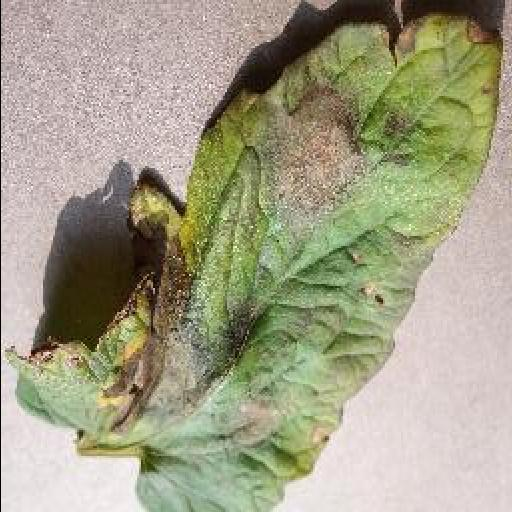disease_tomato: (0, 12, 502, 510)
